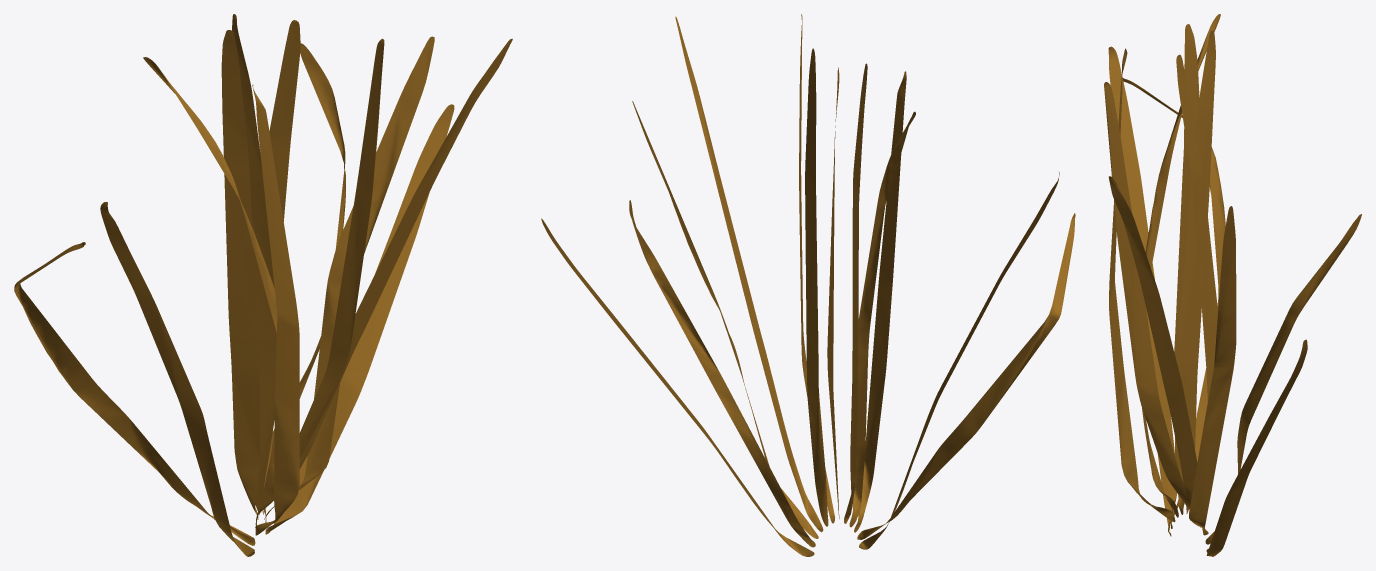
Rendered from Blades00.fbx.
3 views of the same model, side by side, from view 1: azimuth 30°, elevation 25°; view 2: azimuth 150°, elevation 25°; view 3: azimuth 270°, elevation 25° (orthographic). The views are drawn at different scales.
Parts seen in each view (by area): view 1: polySurface41; view 2: polySurface41; view 3: polySurface41.
Boxes of the visible parts, <box> form: polySurface41: <box>14,14,512,556</box>; polySurface41: <box>541,14,1075,556</box>; polySurface41: <box>1104,14,1361,556</box>.
Size of the model in its own units: 0.608 by 0.6191 by 0.2838.
